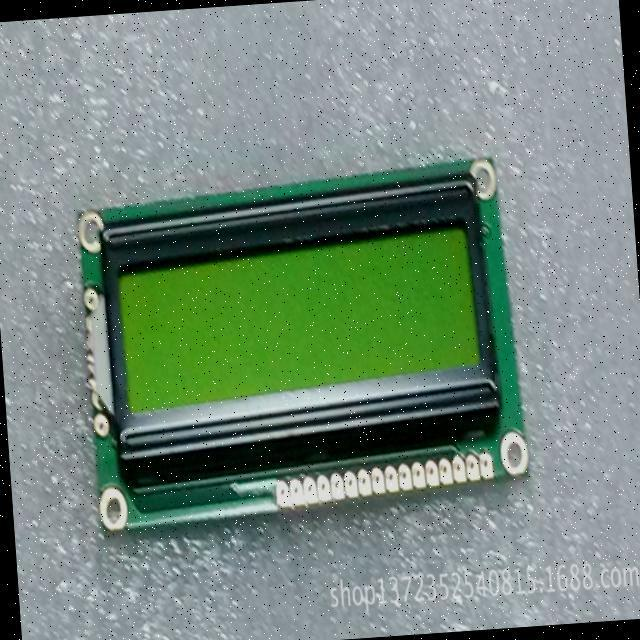lcd: (76, 156, 530, 532)
